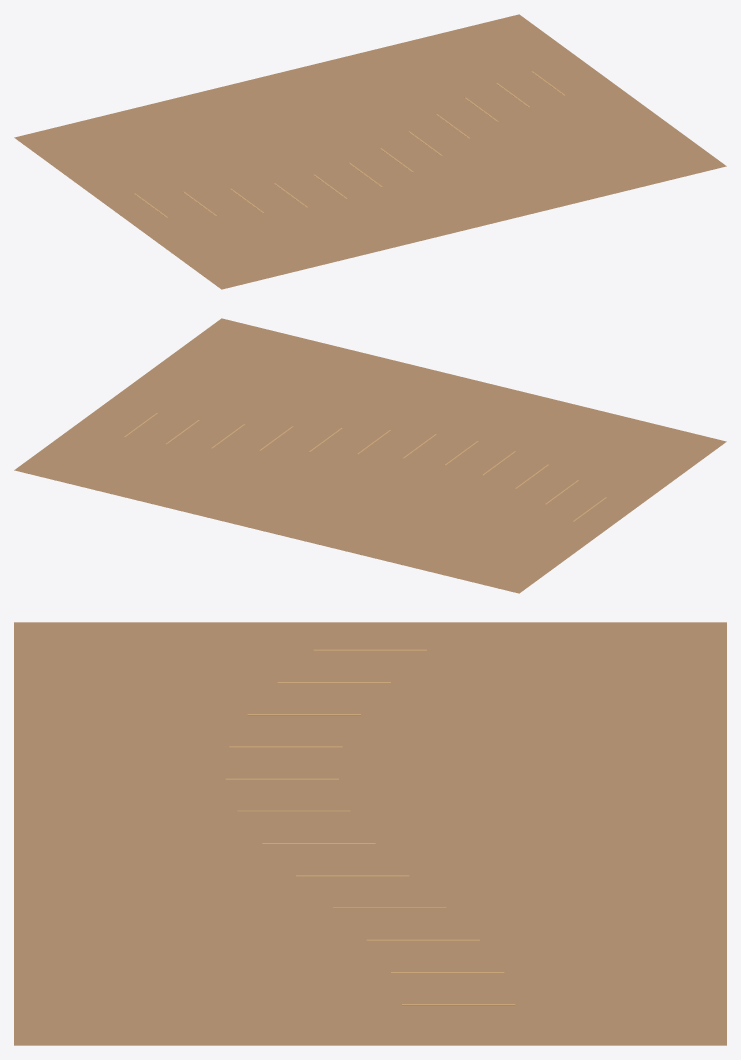
File: 278_L119_L29_LayerReference.glb
The picture shows the model from 3 angles, top to bottom: view 1: azimuth 30°, elevation 25°; view 2: azimuth 150°, elevation 25°; view 3: azimuth 270°, elevation 25°; orthographic projection. The views are drawn at different scales.
Visible parts, largest first — view 1: 0000__PSMAT__copper_dark; view 2: 0000__PSMAT__copper_dark; view 3: 0000__PSMAT__copper_dark.
Part boxes in pixels (x1,y1,x2,y2): 0000__PSMAT__copper_dark: (14,14,726,289); 0000__PSMAT__copper_dark: (14,318,726,593); 0000__PSMAT__copper_dark: (14,622,726,1045).
Size of the model in its own units: 0.486 by 4.6e-05 by 0.346.
